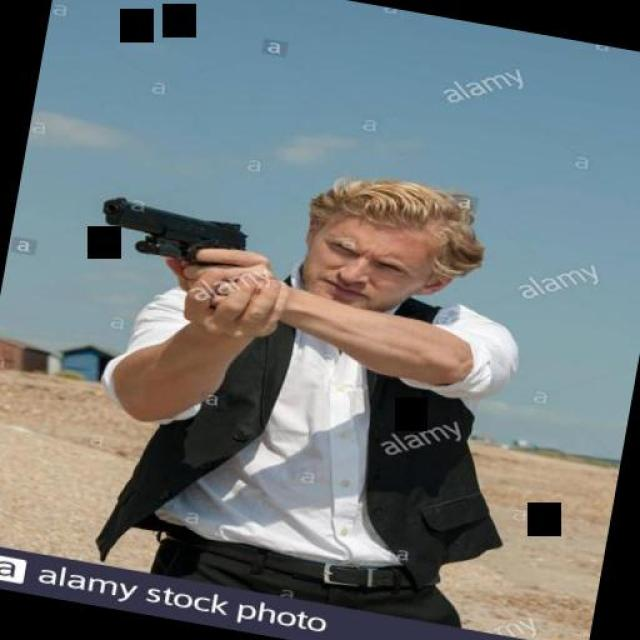gun: (89, 186, 256, 272)
